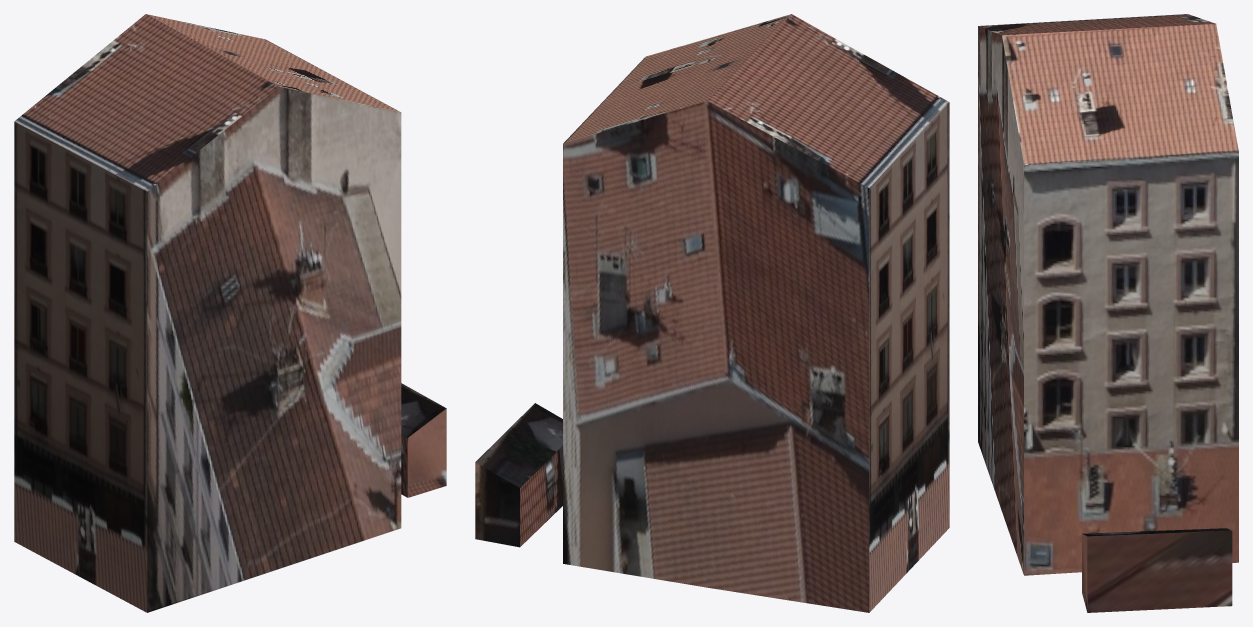
3 views of the same model, side by side, from view 1: azimuth 30°, elevation 25°; view 2: azimuth 150°, elevation 25°; view 3: azimuth 270°, elevation 25° (orthographic). The views are drawn at different scales.
Parts seen in each view (by area): view 1: Z_UP; view 2: Z_UP; view 3: Z_UP.
Boxes of the visible parts, x1,y1,x2,y2 form: Z_UP: (14, 14, 446, 612); Z_UP: (475, 14, 949, 612); Z_UP: (978, 14, 1238, 612).
Size of the model in its own units: 19.66 by 23.74 by 11.79.
2 materials, 1 textured.
